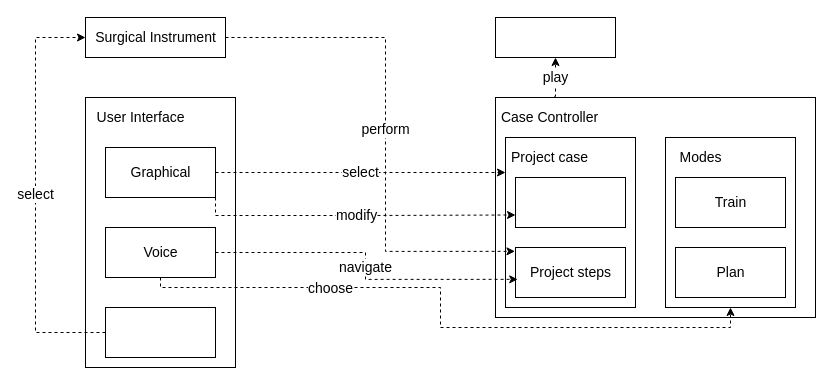
The diagram is 833 pixels wide and 385 high, and some of its shapes have lost their labels. Here are the shapes that lost their labels. From the top down, the box of each, then its label:
(494, 16, 616, 58): Auditory feedback
(514, 176, 626, 228): Patient model
(104, 306, 216, 358): Gestures
